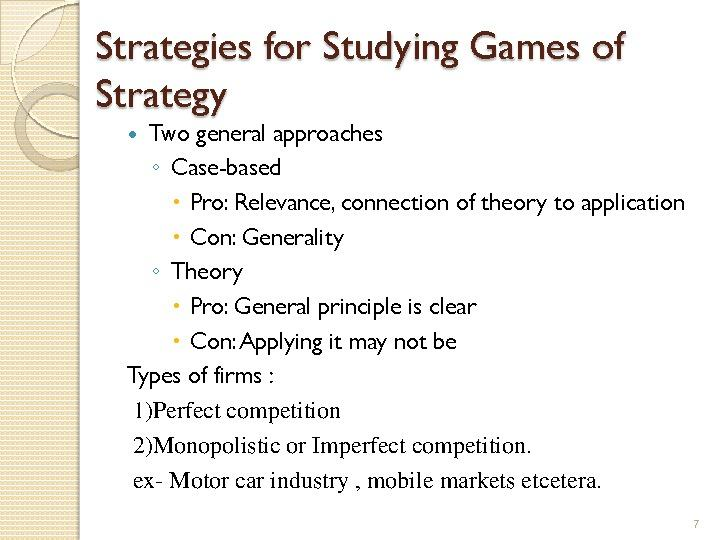paragraph: (121, 114, 715, 514)
title: (87, 14, 645, 115)
